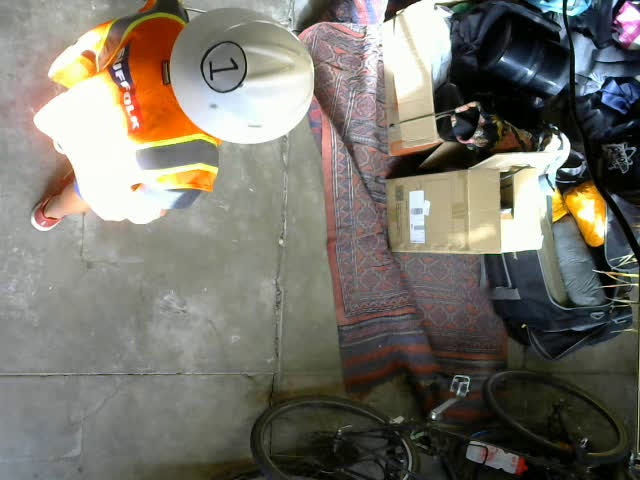one: (200, 41, 247, 93)
